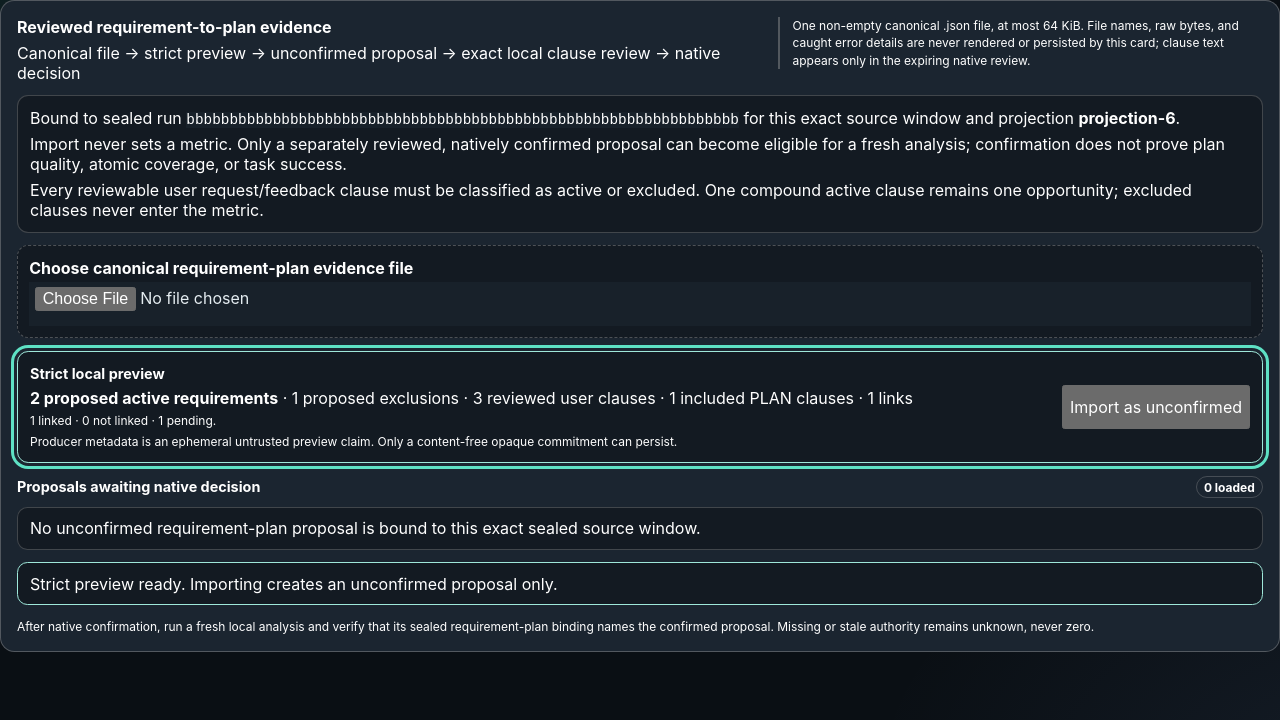
Scenario: RequirementPlanEvidencePanel › rejects a mismatched preview and an imported proposal that loses exact authority
Earlier steps of the test are not shown.
Later steps or results of the test are not shown.
Expected: the text "Bound to sealed run" is shown, [30,108,186,128]
Click the button "Import as unconfirmed".
click(1156, 407)  # box [1062,385,1250,429]
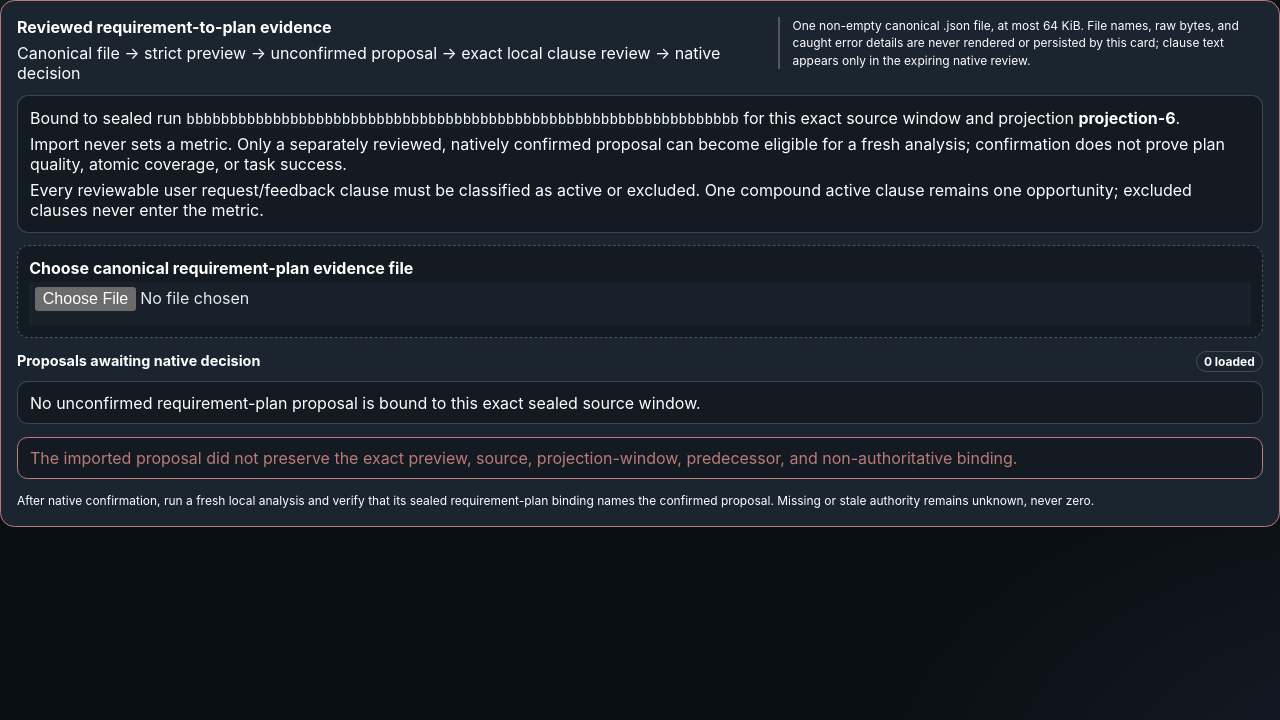
Now the 2nd message shows "did not preserve the exact preview", box [30,448,1018,468]
